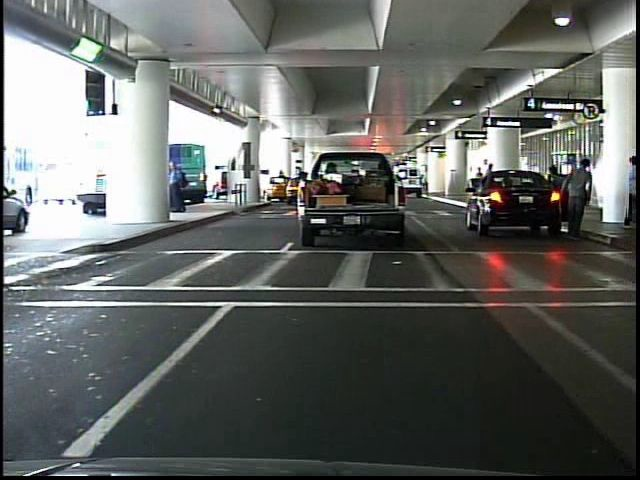person: (559, 156, 599, 241), (168, 150, 192, 217)
